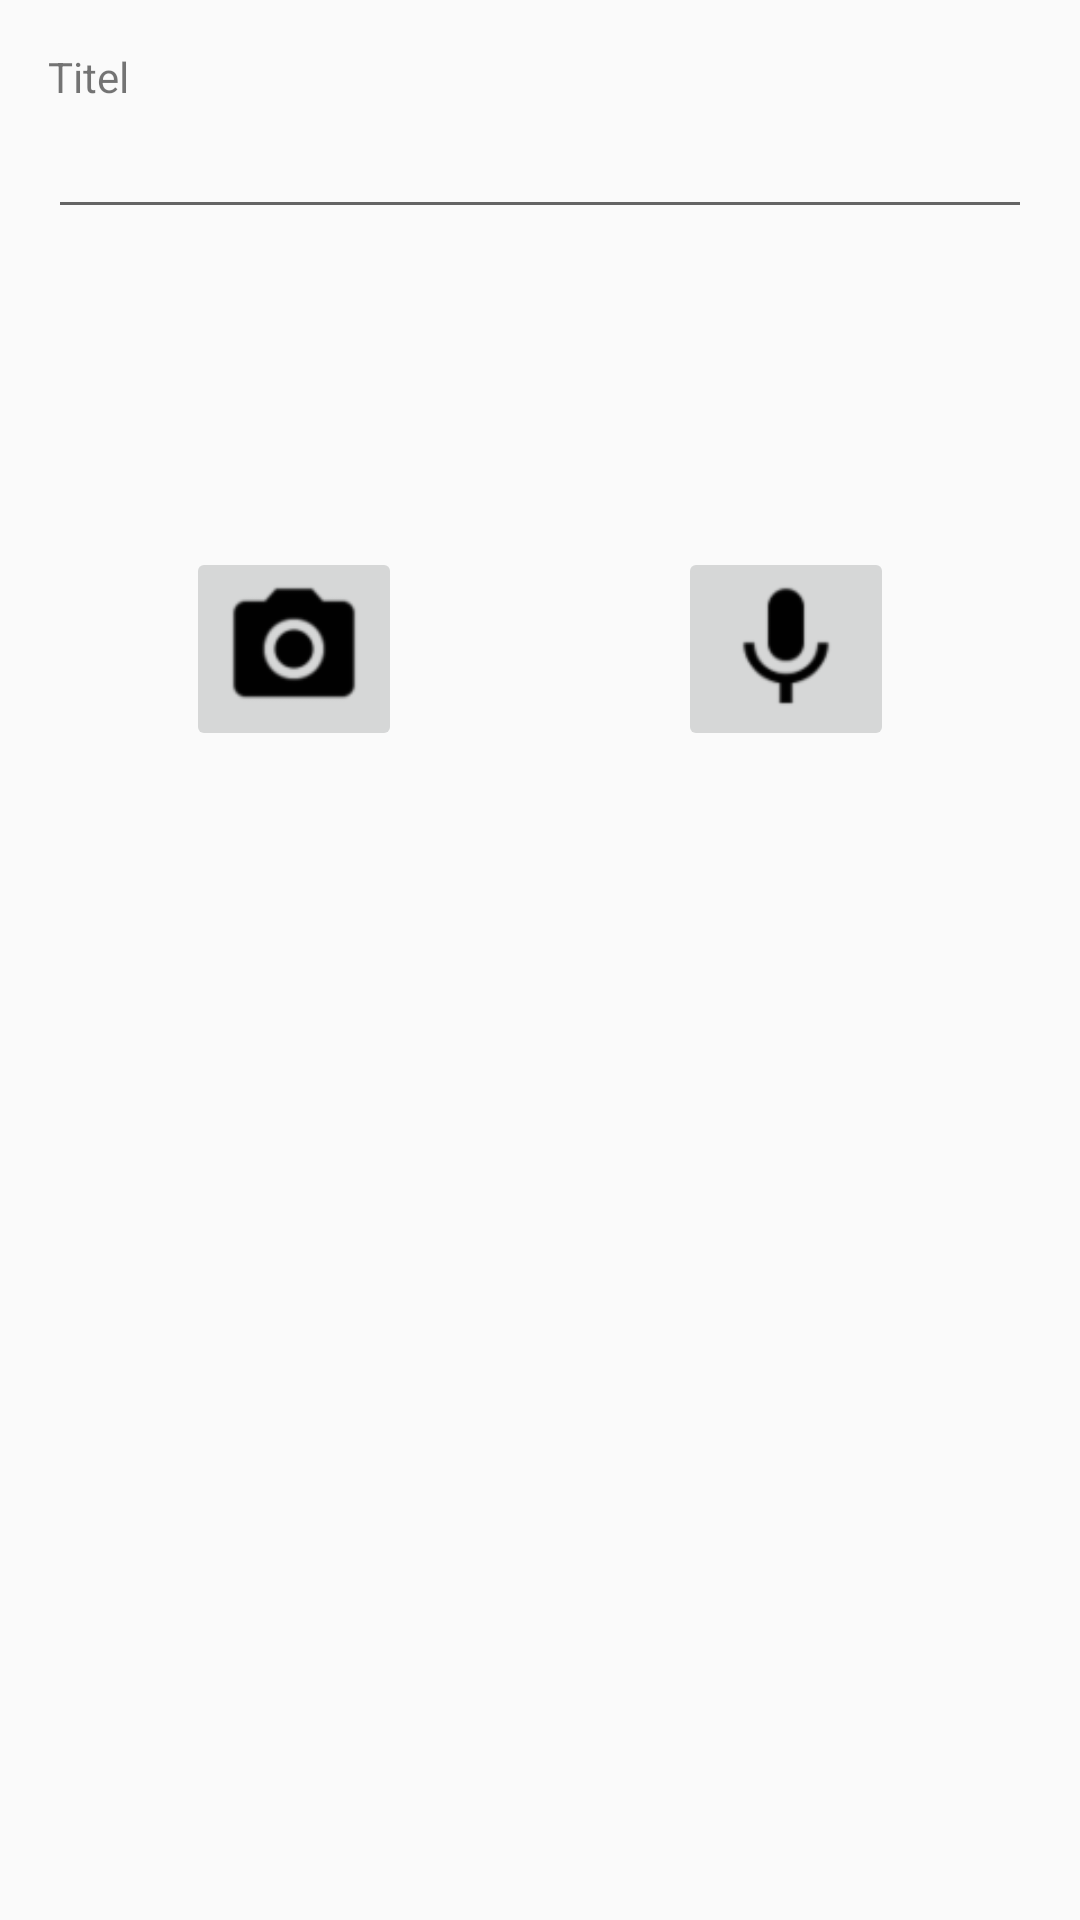

Point at icon controls on the screen. Image size 1080 × 1920, points as point (x, y).
camera: point (294, 649)
mic: point (786, 649)
